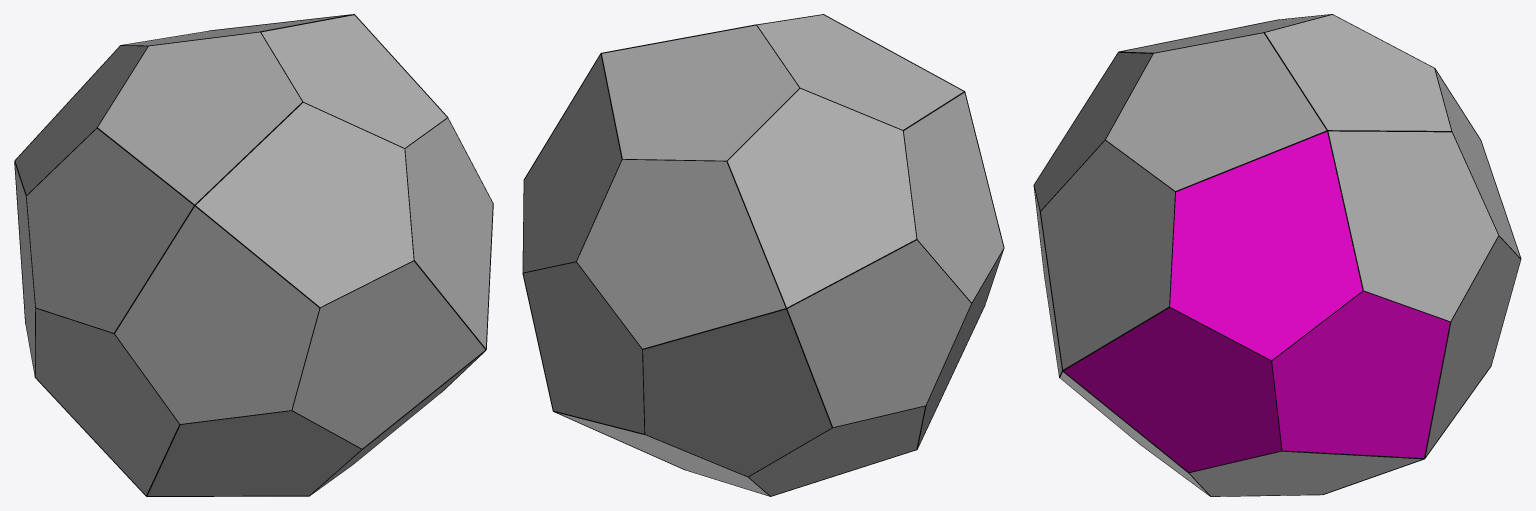
The model's file is PentagonalIcositetrahedron8.glb.
The picture shows the model from 3 angles, left to right: view 1: azimuth 30°, elevation 25°; view 2: azimuth 150°, elevation 25°; view 3: azimuth 270°, elevation 25°; orthographic projection.
Bounding box in the file's own units: 2.57 × 2.51 × 2.51.
